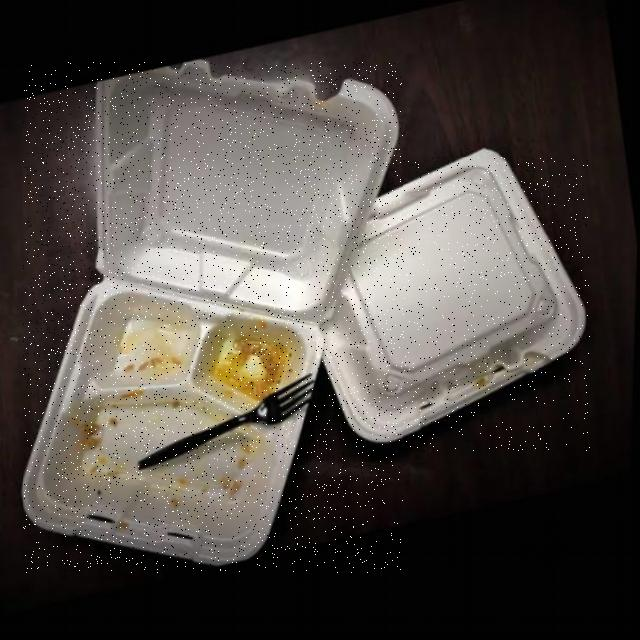styrofoam: (24, 62, 403, 573), (326, 158, 590, 451)
